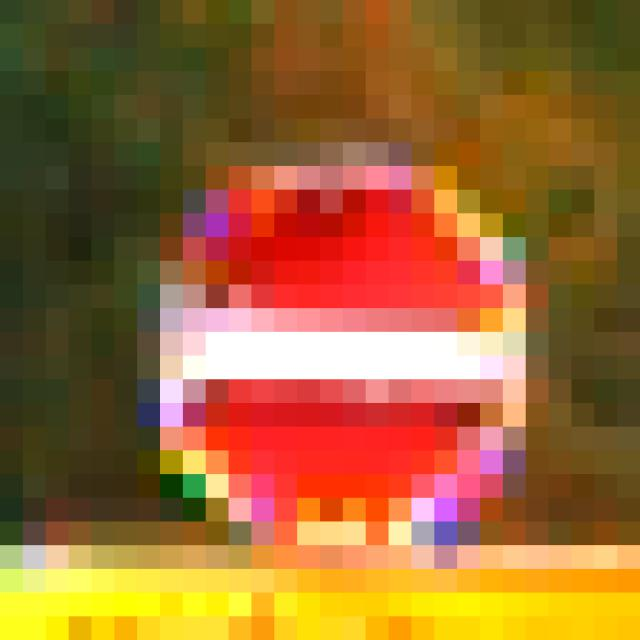No Entry: (115, 120, 504, 523)
